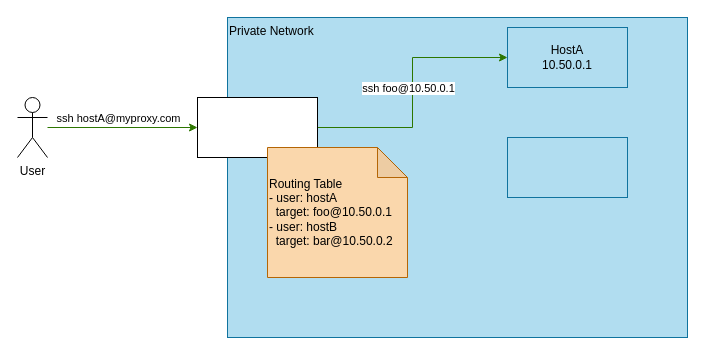
The diagram is 705 pixels wide and 355 high, and some of its shapes have lost their labels. Here are the shapes that lost their labels. From the top down, the centre of each, then its label:
At pixel 257 127: "Proxy myproxy.com".
At pixel 567 167: "HostB 10.50.0.2".
